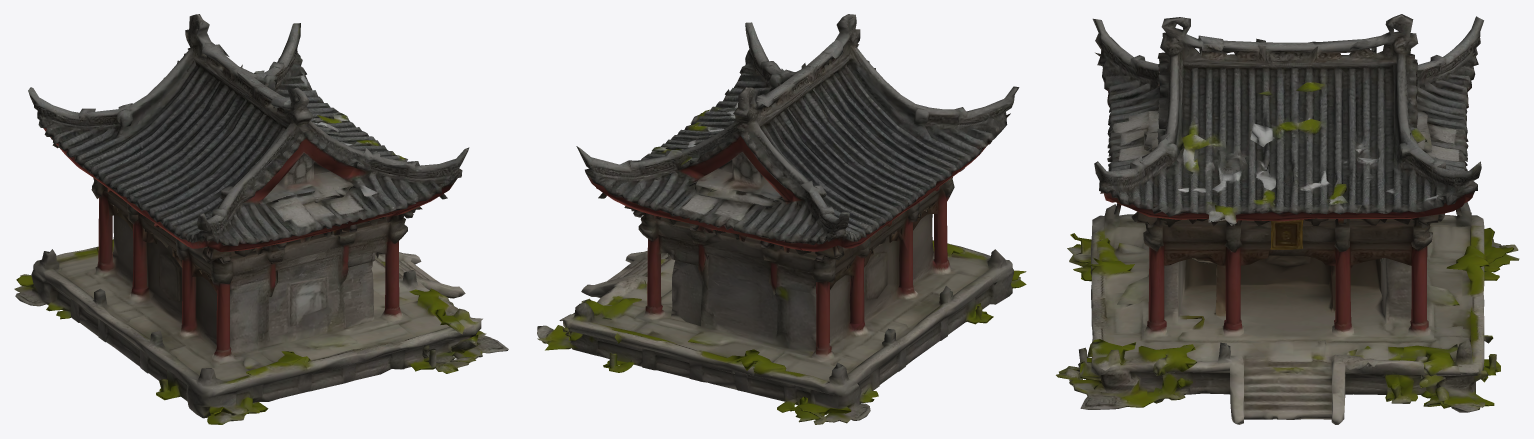
3 views of the same model, side by side, from view 1: azimuth 30°, elevation 25°; view 2: azimuth 150°, elevation 25°; view 3: azimuth 270°, elevation 25° (orthographic). The views are drawn at different scales.
Parts seen in each view (by area): view 1: tripo_node_ef4c9f14-7846-46ab-a5ae-02aa08d8edaa; view 2: tripo_node_ef4c9f14-7846-46ab-a5ae-02aa08d8edaa; view 3: tripo_node_ef4c9f14-7846-46ab-a5ae-02aa08d8edaa.
Part boxes in pixels (box(x1,y1,x2,y2)): tripo_node_ef4c9f14-7846-46ab-a5ae-02aa08d8edaa: box(14, 14, 508, 424); tripo_node_ef4c9f14-7846-46ab-a5ae-02aa08d8edaa: box(537, 14, 1026, 424); tripo_node_ef4c9f14-7846-46ab-a5ae-02aa08d8edaa: box(1056, 14, 1519, 424).
Bounding box in the file's own units: 0.951 × 0.7281 × 1.
1 material, 1 textured.
